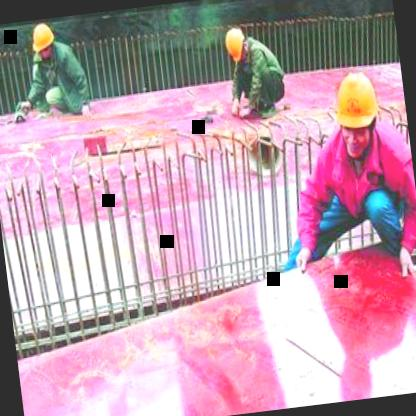helmet: (325, 66, 387, 160), (27, 19, 58, 66), (220, 23, 250, 67)
